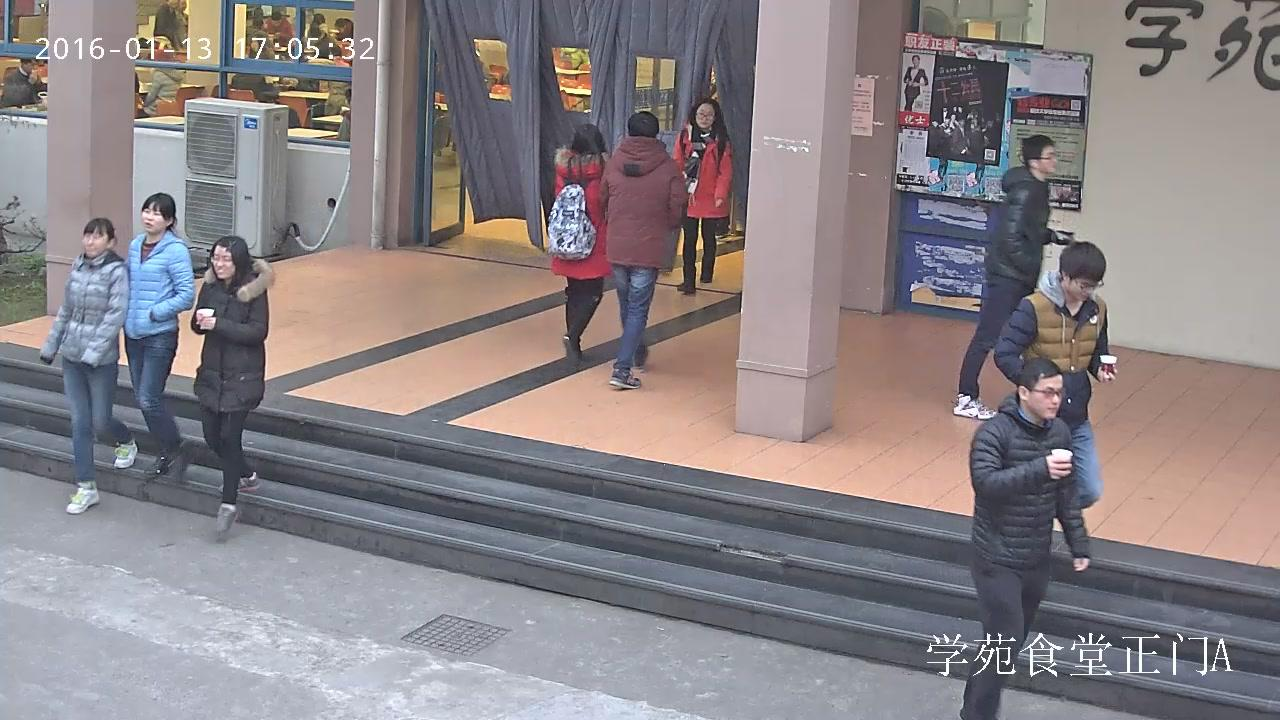person: (958, 357, 1092, 720), (993, 240, 1119, 513), (953, 134, 1057, 421), (39, 216, 138, 514), (595, 110, 690, 389), (190, 235, 275, 532), (124, 192, 194, 480), (544, 124, 608, 363), (671, 99, 732, 294), (3, 57, 46, 106), (142, 66, 181, 117), (903, 54, 928, 112), (153, 0, 178, 47), (265, 11, 293, 46), (308, 12, 330, 40)
